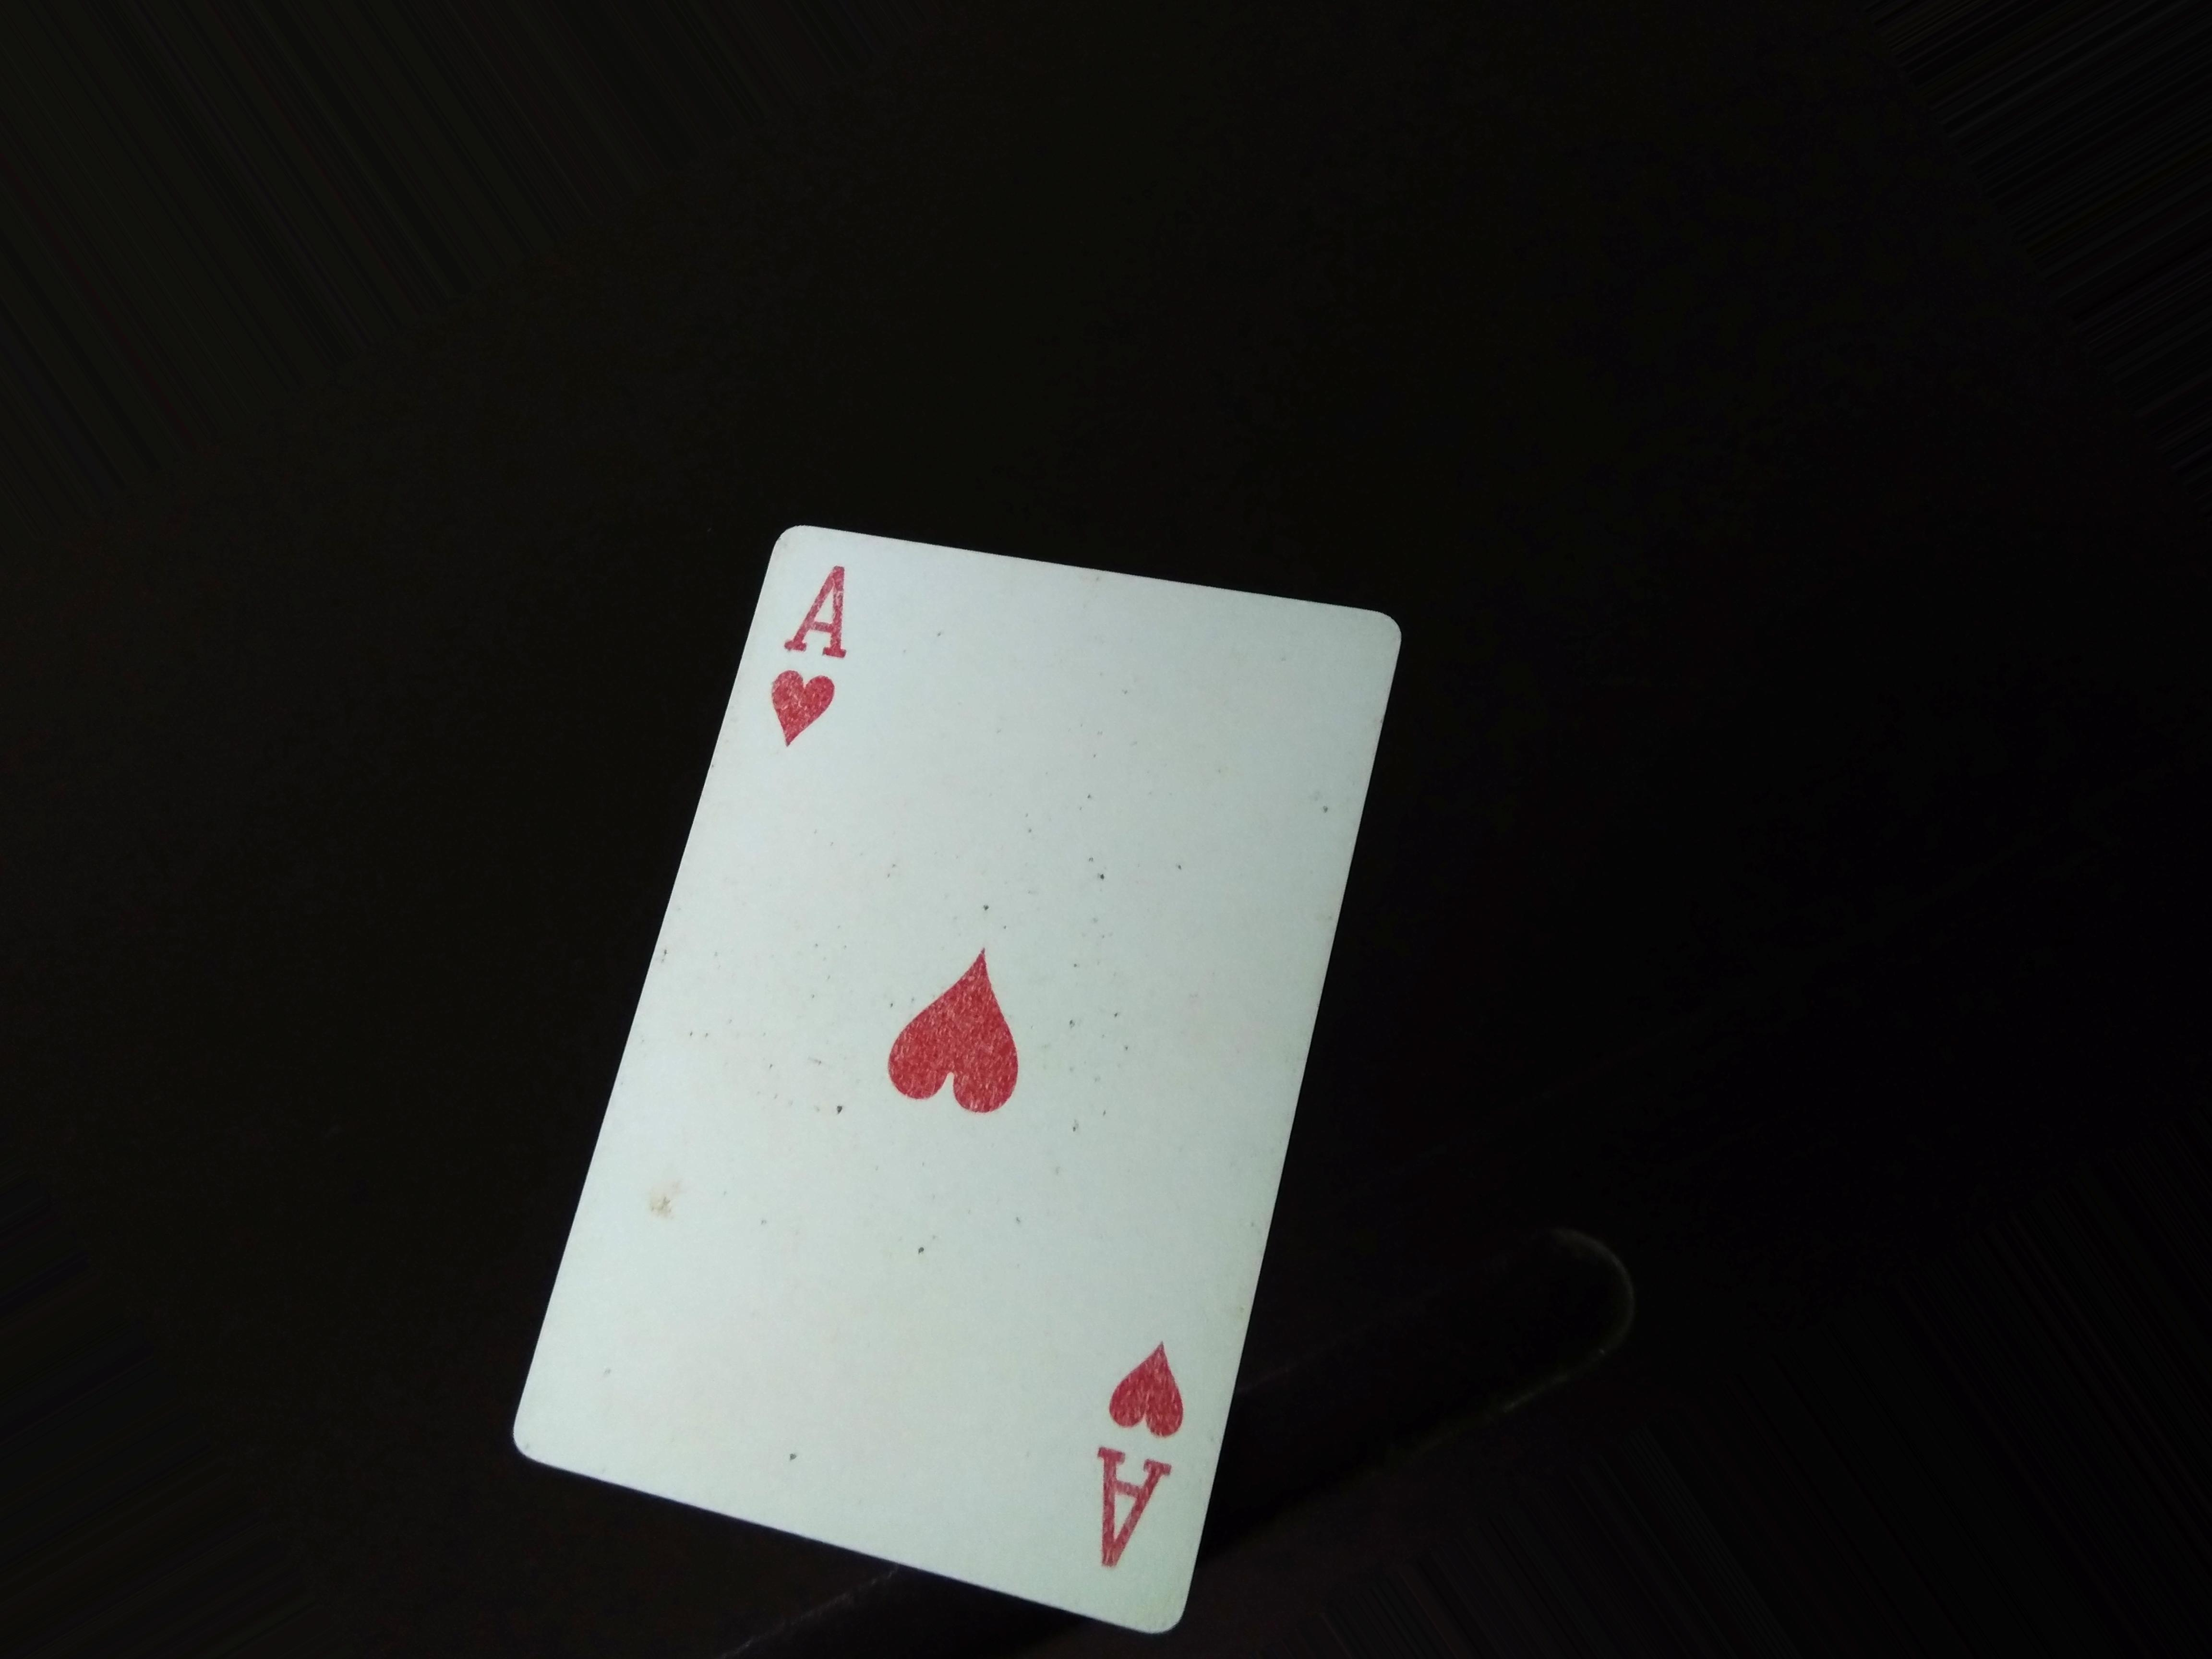AH: (759, 558, 860, 756)
